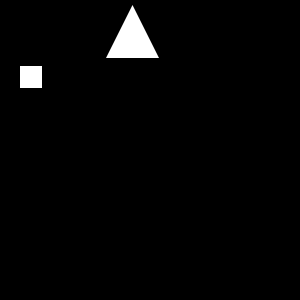circle: (20, 66, 42, 88)
triangle: (106, 5, 159, 58)
